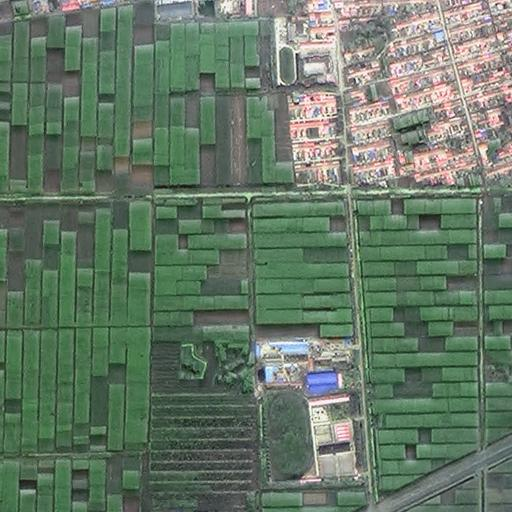school: (262, 369, 364, 485), (275, 42, 337, 87)
